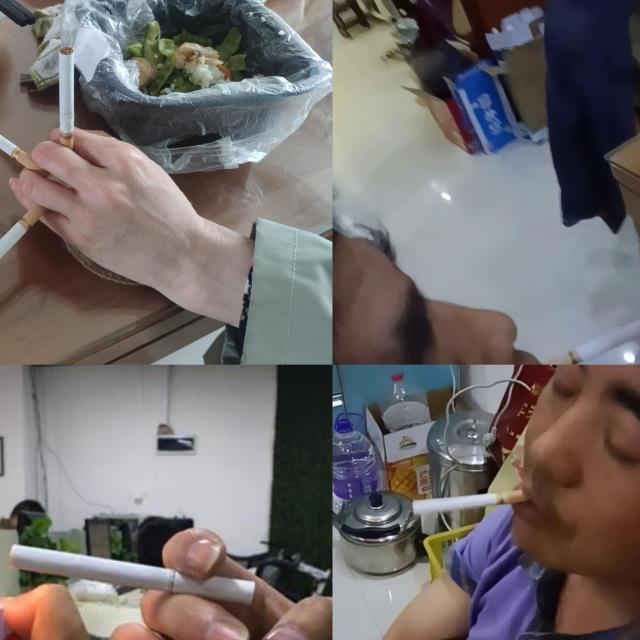smoke: (8, 544, 257, 608), (542, 304, 640, 364), (0, 200, 50, 300), (0, 104, 51, 180), (412, 488, 534, 516), (59, 45, 74, 159)
